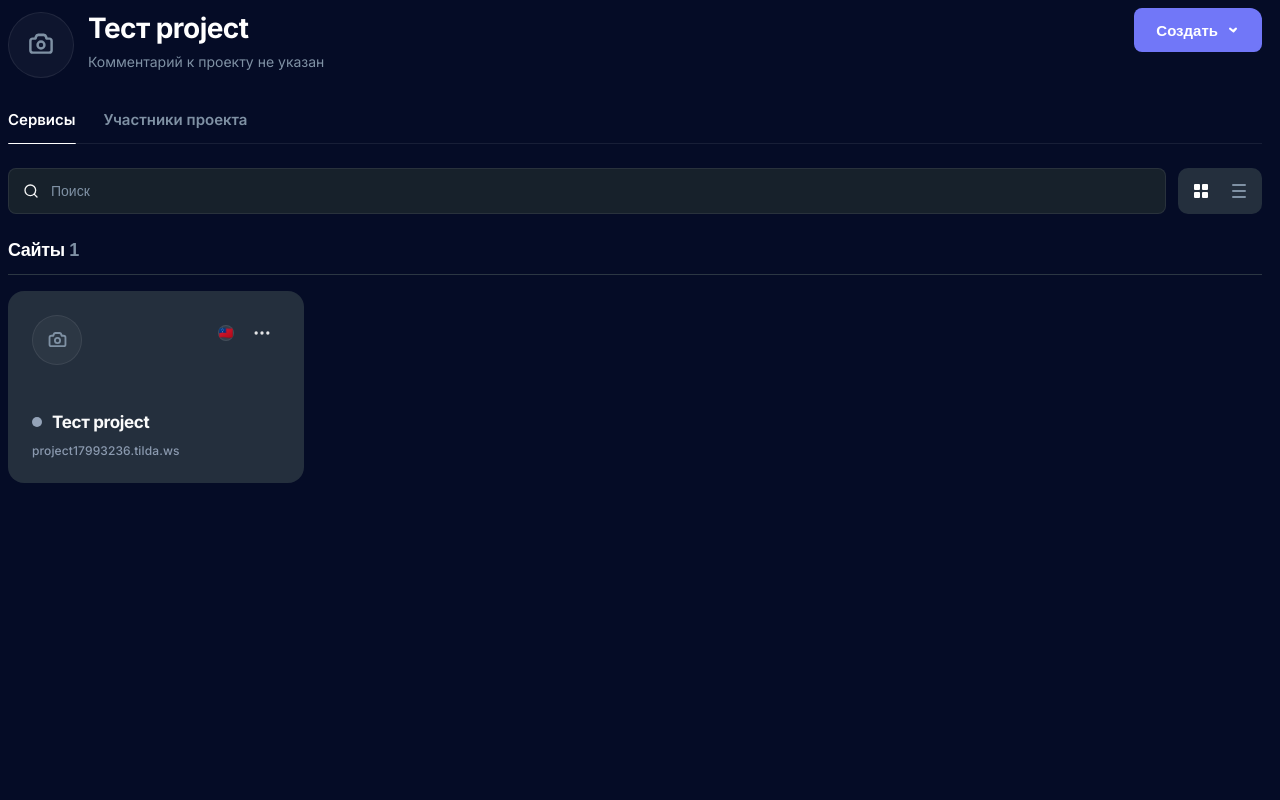
Test case: SiteProjectLayout child sites › removes current single site without page refresh
Step 1. Click the 5th button → {"x": 262, "y": 333}, box [244,315,280,351]
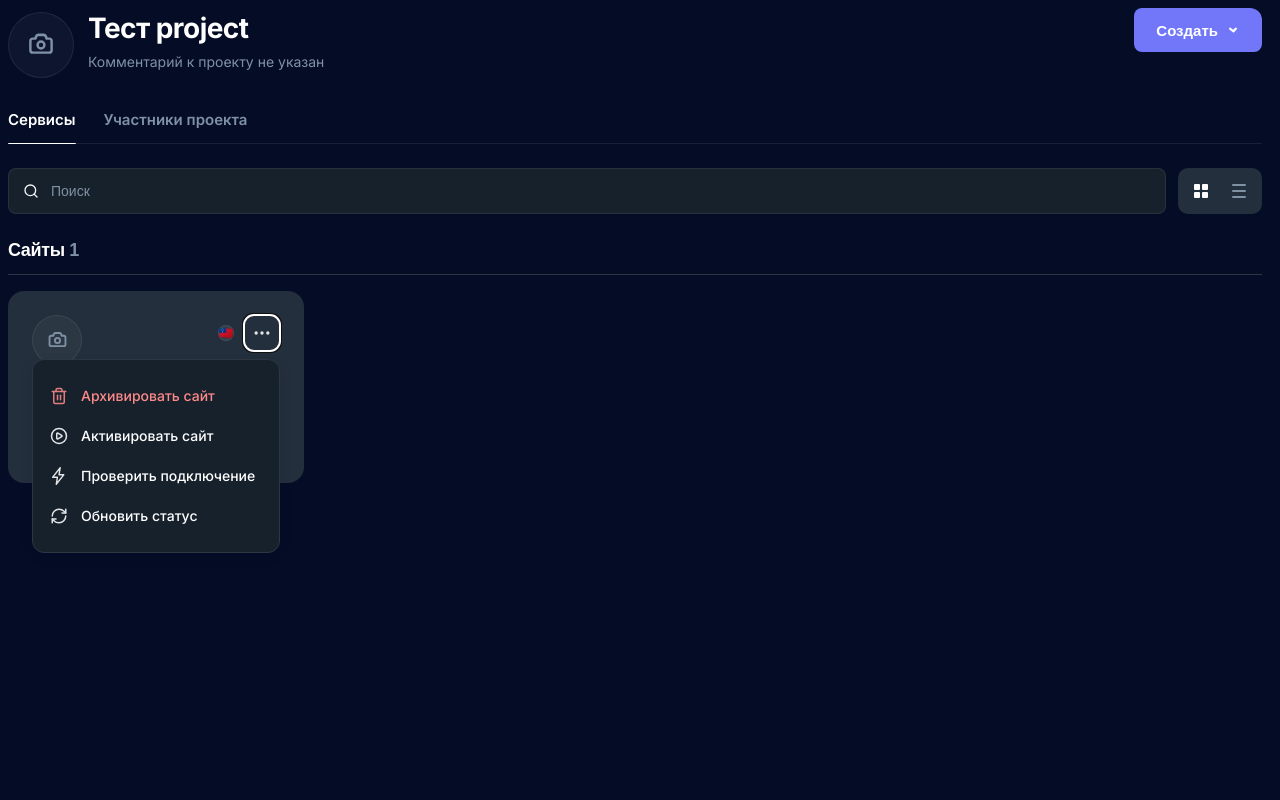
Step 2. Click the menu item "Архивировать сайт" → {"x": 156, "y": 396}, box [33,376,279,416]
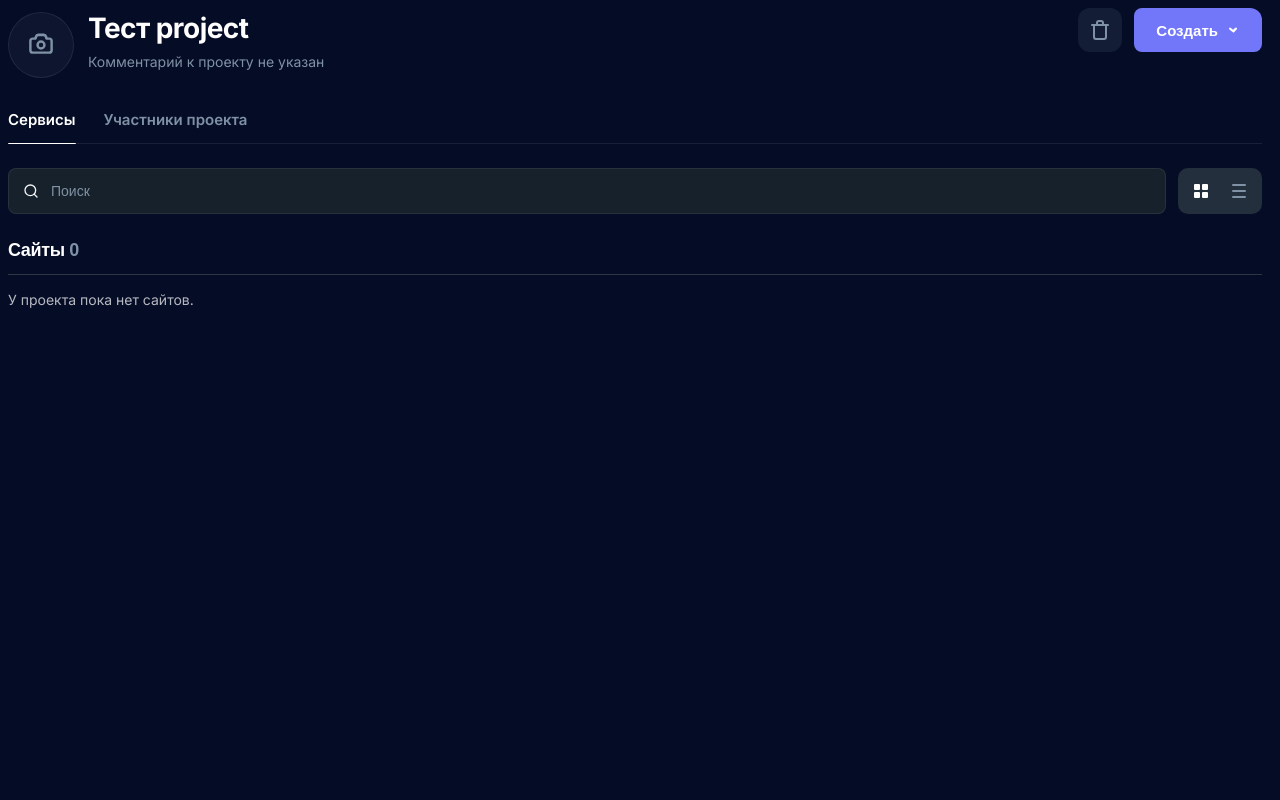
Expected: the text "У проекта пока нет сайтов." is shown, [8,291,194,308]
